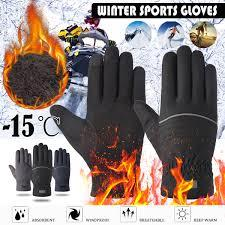gloves: (50, 47, 141, 198), (131, 46, 218, 198), (30, 143, 53, 196), (10, 146, 31, 191), (50, 148, 71, 192)
